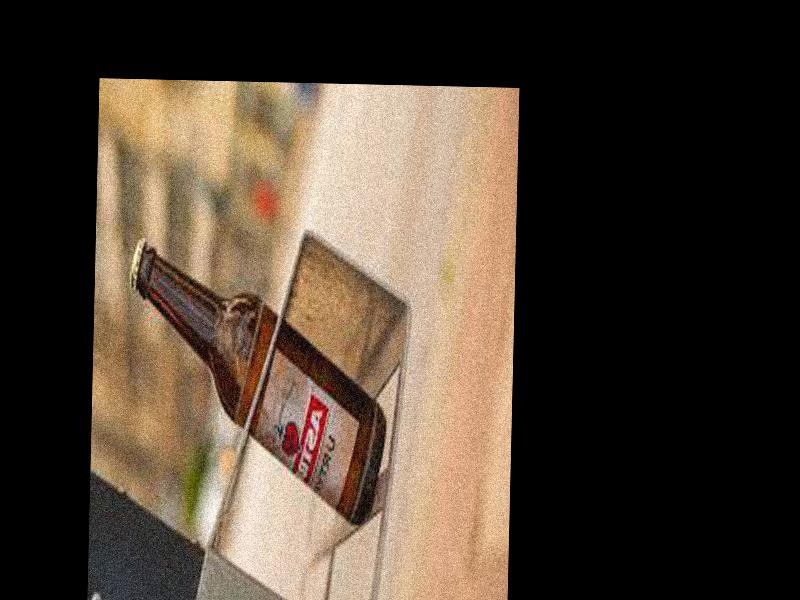Beer: (123, 235, 390, 528)
